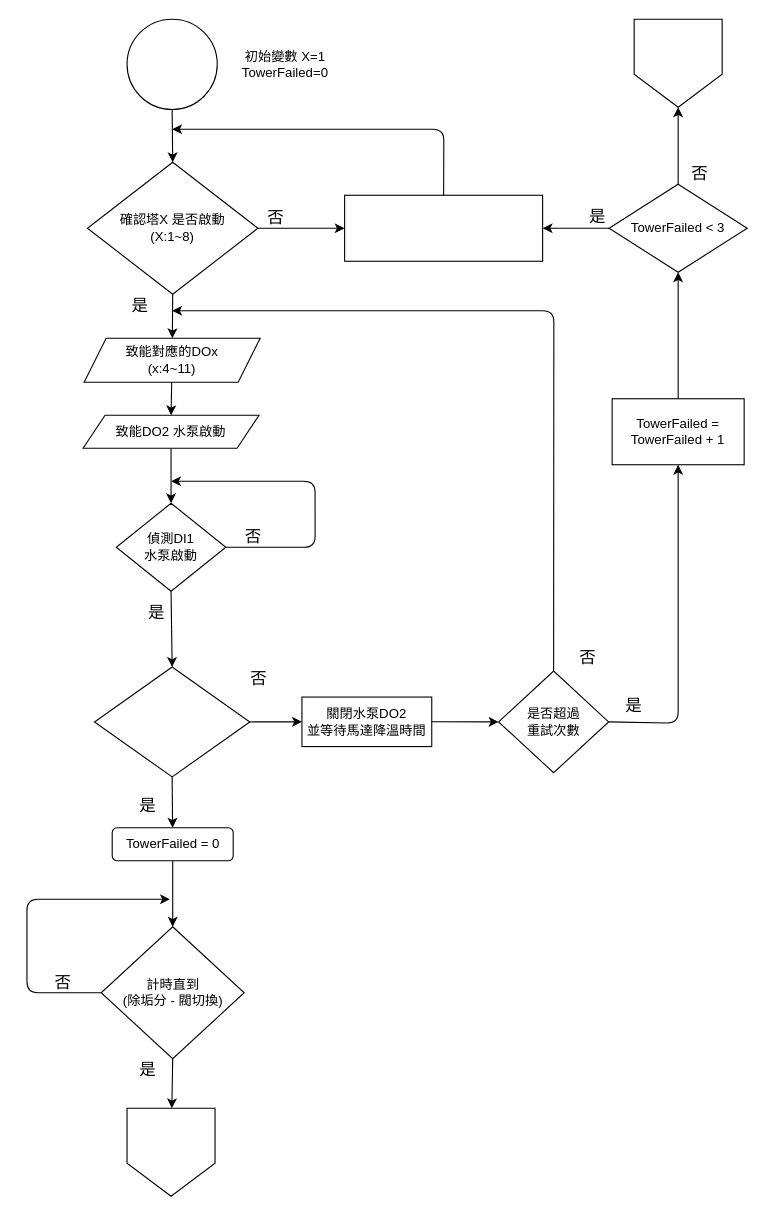
This 767x1216 diagram has some shape labels left out. Here are the shapes that lost their labels. From the top down, the centre of each, then its label:
point 171,63: 閥切換 流程
point 677,62: 告警程序
point 443,227: X=X+1, if (X > 8) then X=1
point 171,721: 確認水流DI0 是否在 馬達保護時限內
point 170,1151: 關閉流程
